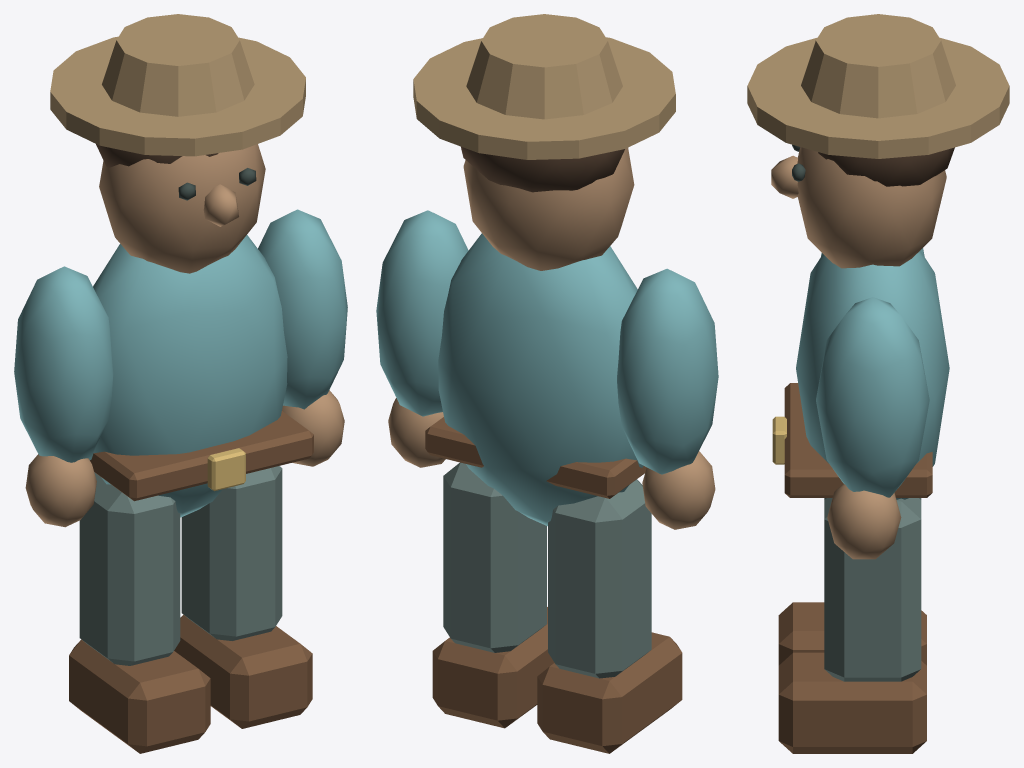
File: citizen_2.glb
3 renders of one model, left to right at view 1: azimuth 30°, elevation 25°; view 2: azimuth 150°, elevation 25°; view 3: azimuth 270°, elevation 25°, orthographic. The views are drawn at different scales.
Visible parts, largest first — view 1: Body, LegL, LegR, ArmL, ArmR; view 2: Body, LegL, LegR, ArmL, ArmR; view 3: Body, LegR, ArmR, LegL.
Boxes of the visible parts, left/top/right/bottom form: Body: left=50, top=14, right=313, bottom=517; LegL: left=69, top=472, right=210, bottom=753; LegR: left=174, top=466, right=312, bottom=728; ArmL: left=14, top=266, right=113, bottom=527; ArmR: left=258, top=209, right=347, bottom=466; Body: left=413, top=14, right=675, bottom=526; LegL: left=537, top=479, right=682, bottom=753; LegR: left=432, top=462, right=554, bottom=728; ArmL: left=617, top=268, right=718, bottom=529; ArmR: left=376, top=210, right=468, bottom=467; Body: left=747, top=14, right=1009, bottom=499; LegR: left=778, top=498, right=926, bottom=753; ArmR: left=816, top=297, right=929, bottom=559; LegL: left=778, top=498, right=926, bottom=665.
Size of the model in its own units: 0.6512 by 1.31 by 0.46.
